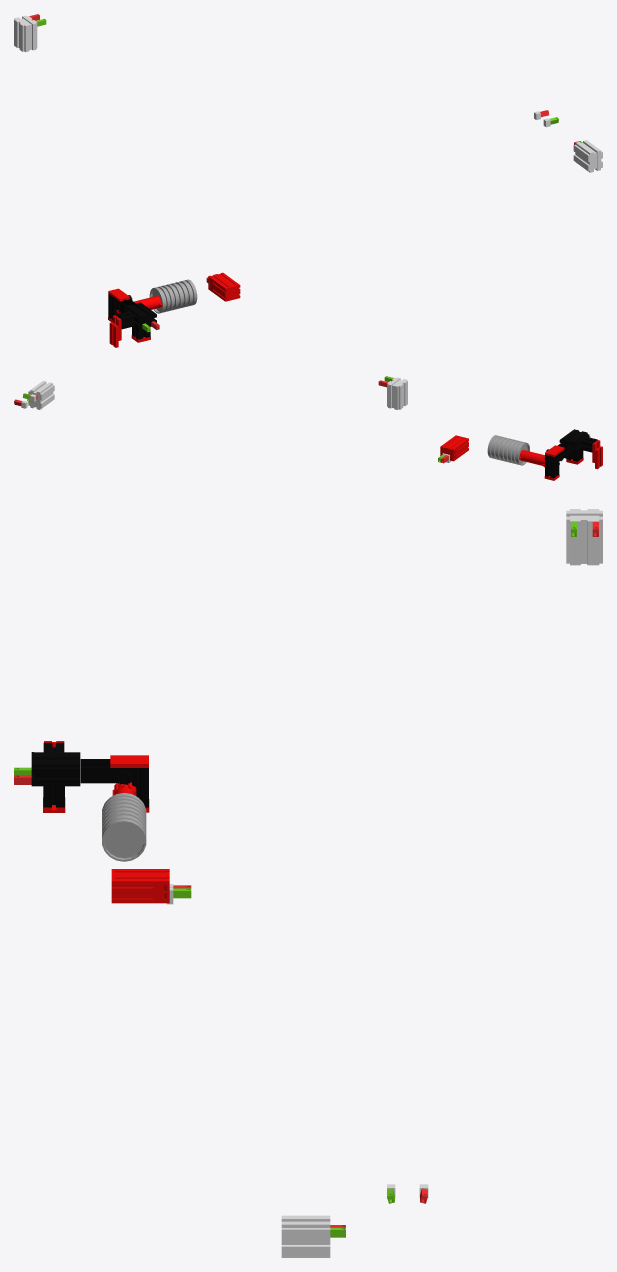
The model's file is ProblemModels_1-3.FBX.
3 renders of one model, top to bottom at view 1: azimuth 30°, elevation 25°; view 2: azimuth 150°, elevation 25°; view 3: azimuth 270°, elevation 25°, orthographic. The views are drawn at different scales.
Visible parts, largest first — view 1: Cylinder028, Reach_MotorBlock, CraneMotorBlock_WireConnector, CraneMotorBlock008, Reach_MotorBlock002; view 2: Cylinder028, Reach_MotorBlock, CraneMotorBlock_WireConnector, CraneMotorBlock008, Reach_MotorBlock002, BuildBlock_Half075, Cylinder029, BuildBlock_Half074, UBox038; view 3: Cylinder028, CraneMotorBlock_WireConnector, CraneMotorBlock008, Reach_MotorBlock, Reach_MotorBlock002.
Part boxes in pixels (x1=…): Cylinder028: x1=149, y1=279, x2=197, y2=313; Reach_MotorBlock: x1=14, y1=15, x2=37, y2=52; CraneMotorBlock_WireConnector: x1=573, y1=140, x2=602, y2=172; CraneMotorBlock008: x1=208, y1=272, x2=240, y2=301; Reach_MotorBlock002: x1=123, y1=302, x2=156, y2=329; Cylinder028: x1=487, y1=435, x2=529, y2=465; Reach_MotorBlock: x1=387, y1=377, x2=407, y2=409; CraneMotorBlock_WireConnector: x1=28, y1=380, x2=54, y2=409; CraneMotorBlock008: x1=440, y1=435, x2=468, y2=461; Reach_MotorBlock002: x1=559, y1=429, x2=589, y2=453; BuildBlock_Half075: x1=545, y1=454, x2=559, y2=477; Cylinder029: x1=519, y1=450, x2=559, y2=467; BuildBlock_Half074: x1=580, y1=436, x2=597, y2=452; UBox038: x1=595, y1=446, x2=602, y2=469; Cylinder028: x1=102, y1=793, x2=146, y2=861; CraneMotorBlock_WireConnector: x1=281, y1=1215, x2=330, y2=1257; CraneMotorBlock008: x1=111, y1=869, x2=169, y2=903; Reach_MotorBlock: x1=566, y1=509, x2=602, y2=565; Reach_MotorBlock002: x1=31, y1=752, x2=80, y2=786.
Size of the model in its own units: 278 by 96.41 by 151.
